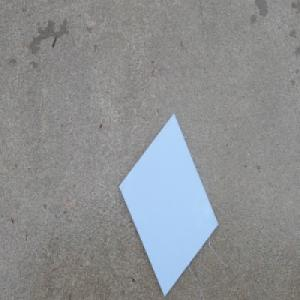PaintChip: (118, 112, 219, 297)
